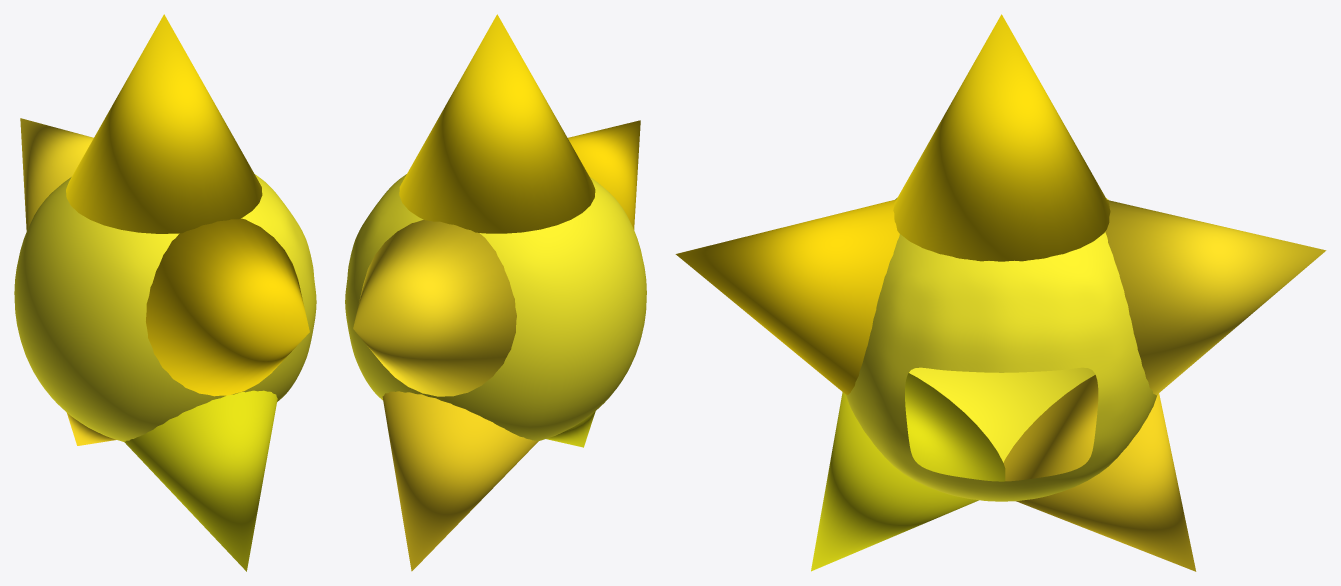
The model's file is suta-.fbx.
3 renders of one model, left to right at view 1: azimuth 30°, elevation 25°; view 2: azimuth 150°, elevation 25°; view 3: azimuth 270°, elevation 25°, orthographic. The views are drawn at different scales.
Parts seen in each view (by area): view 1: 立方体, 円錐, 円錐.002, 円錐.003, 円錐.001, 円錐.004; view 2: 立方体, 円錐, 円錐.001, 円錐.004, 円錐.002, 円錐.003; view 3: 立方体, 円錐, 円錐.002, 円錐.001, 円錐.003, 円錐.004.
Part boxes in pixels (bbox=[...]): 立方体: bbox=[14, 174, 316, 441]; 円錐: bbox=[66, 14, 262, 233]; 円錐.002: bbox=[146, 218, 309, 396]; 円錐.003: bbox=[124, 390, 277, 571]; 円錐.001: bbox=[20, 118, 93, 230]; 円錐.004: bbox=[66, 412, 116, 445]; 立方体: bbox=[345, 174, 646, 441]; 円錐: bbox=[399, 14, 595, 233]; 円錐.001: bbox=[353, 219, 516, 396]; 円錐.004: bbox=[382, 391, 538, 571]; 円錐.002: bbox=[568, 120, 640, 229]; 円錐.003: bbox=[546, 411, 595, 447]; 立方体: bbox=[845, 198, 1157, 501]; 円錐: bbox=[893, 14, 1110, 261]; 円錐.002: bbox=[675, 199, 899, 394]; 円錐.001: bbox=[1105, 200, 1326, 395]; 円錐.003: bbox=[811, 373, 1005, 571]; 円錐.004: bbox=[1003, 375, 1196, 571].
Bounding box in the file's own units: 160 × 298 × 314.
